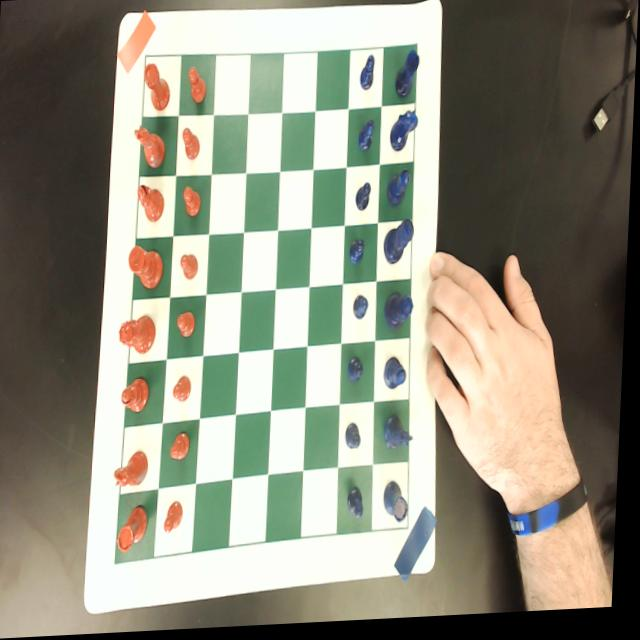B: (386, 358, 411, 394), (388, 172, 411, 211)
K: (384, 222, 416, 268)
N: (390, 112, 419, 155), (386, 417, 417, 454)
P: (357, 120, 376, 155), (350, 489, 369, 524), (359, 57, 376, 94), (347, 423, 366, 454), (348, 357, 367, 386), (356, 182, 372, 215), (351, 239, 368, 267), (354, 296, 371, 323)
Q: (386, 294, 416, 333)
R: (394, 53, 421, 102), (386, 481, 416, 525)
b: (136, 184, 167, 225), (124, 377, 153, 417)
cb: (119, 47, 417, 565)
k: (129, 245, 166, 292)
n: (130, 125, 167, 171), (118, 449, 153, 489)
p: (187, 67, 207, 106), (183, 185, 203, 220), (182, 126, 201, 162), (168, 501, 188, 535), (173, 431, 194, 462), (175, 375, 196, 405), (178, 311, 198, 340), (181, 253, 200, 281)
q: (121, 315, 158, 356)
r: (120, 505, 153, 555), (142, 63, 172, 113)
